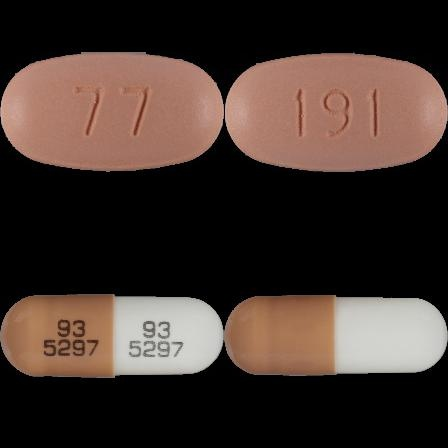60687-149: (0, 0, 224, 224)
